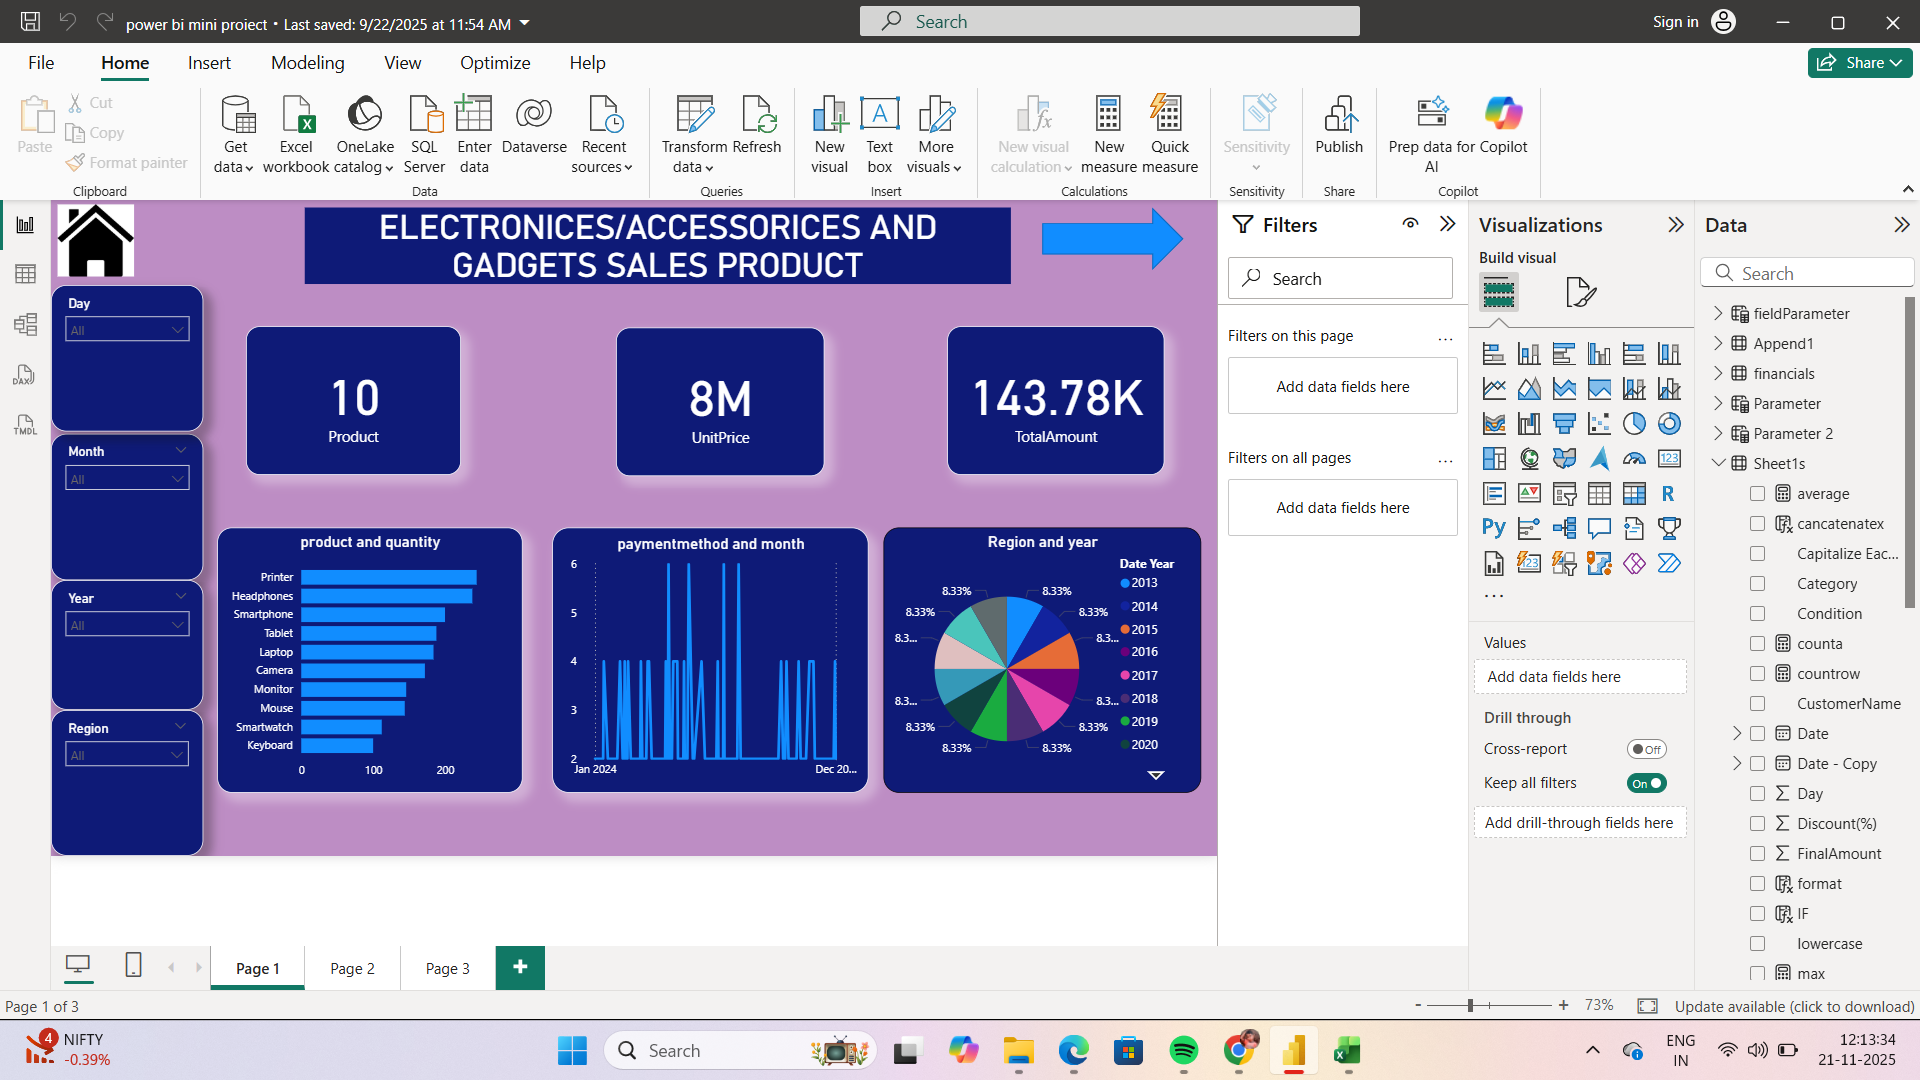

The dashboard page shown, as its layout file describes it:
{"tool":"powerbi","page":{"name":"Page 1","canvas":[1280,720],"ordinal":0},"visuals":[{"type":"card","fields":{"Values":["Count(Sheet1s.Product)"]},"box":[214.1,138.6,236,163.3],"z":0},{"type":"card","fields":{"Values":["Sum(Sheet1s.UnitPrice)"]},"box":[620.2,140,229.2,163.3],"z":1000},{"type":"card","fields":{"Values":["Avg(Append1.TotalAmount)"]},"box":[983.9,138.6,238.8,163.3],"z":2000},{"type":"textbox","title":" ELECTRONICES/ACCESSORICES AND GADGETS SALES PRODUCT","box":[278.6,8.2,775.3,83.7],"z":3000},{"type":"slicer","fields":{"Values":["Append1.Date - Copy.Variation.Date Hierarchy.Month"]},"box":[0,256.6,167.4,160.5],"z":4000},{"type":"barChart","title":"product and quantity","fields":{"Y":["Sum(Sheet1s.Quantity)"],"Category":["Sheet1s.Product"]},"box":[182.5,359.5,334.8,290.9],"z":5000},{"type":"lineChart","title":"paymentmethod and month","fields":{"Category":["Sheet1s.Date.Variation.Date Hierarchy.Month"],"Y":["CountNonNull(Sheet1s.PaymentMethod)"]},"box":[550.3,359.5,347.2,290.9],"z":6000},{"type":"pieChart","title":"Region and year","fields":{"Y":["CountNonNull(Sheet1s.Region)"],"Category":["Append1.Date.Variation.Date Hierarchy.Year"]},"box":[913.9,359.5,348.5,290.9],"z":7000},{"type":"shape","box":[1088.2,8.2,155.1,68.6],"z":8000},{"type":"image","box":[0,0,98.8,89.2],"z":9000},{"type":"slicer","fields":{"Values":["Append1.Date - Copy.Variation.Date Hierarchy.Day"]},"box":[0,93.3,167.4,160.5],"z":10000},{"type":"slicer","fields":{"Values":["Append1.Date - Copy.Variation.Date Hierarchy.Year"]},"box":[0,417.2,167.4,142.7],"z":11000},{"type":"slicer","fields":{"Values":["Sheet1s.Region"]},"box":[0,560,166.8,160],"z":12000}]}

Visuals, with their boxes on the page's 1280x720 design canvas (x1, y1, x2, y2). These are canvas units, not pixel positions in the 1920x1080 screenshot, which may show the page scaled, cropped or inside an application window:
card - Count(Sheet1s.Product): 214, 139, 450, 302
card - Sum(Sheet1s.UnitPrice): 620, 140, 849, 303
card - Avg(Append1.TotalAmount): 984, 139, 1223, 302
" ELECTRONICES/ACCESSORICES AND GADGETS SALES PRODUCT" textbox: 279, 8, 1054, 92
slicer - Append1.Date - Copy.Variation.Date Hierarchy.Month: 0, 257, 167, 417
"product and quantity" barChart: 182, 360, 517, 650
"paymentmethod and month" lineChart: 550, 360, 898, 650
"Region and year" pieChart: 914, 360, 1262, 650
shape: 1088, 8, 1243, 77
image: 0, 0, 99, 89
slicer - Append1.Date - Copy.Variation.Date Hierarchy.Day: 0, 93, 167, 254
slicer - Append1.Date - Copy.Variation.Date Hierarchy.Year: 0, 417, 167, 560
slicer - Sheet1s.Region: 0, 560, 167, 720
